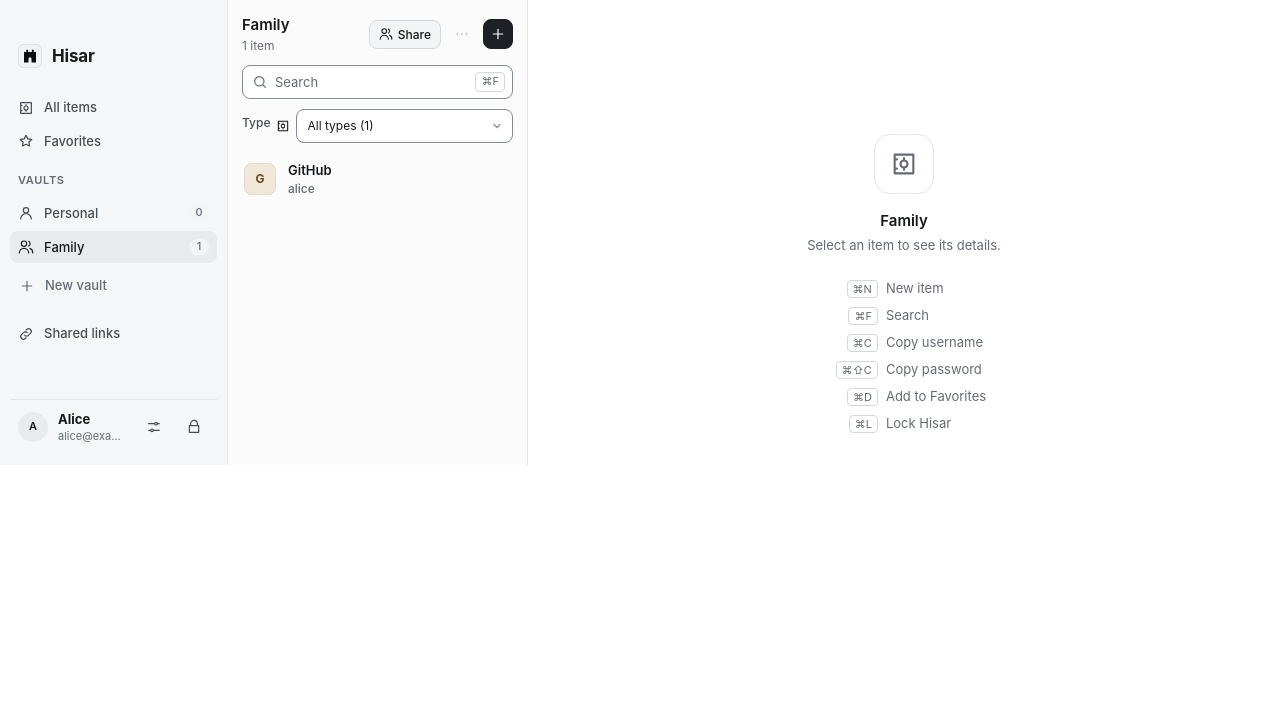
Scenario: Vault sharing panel › does not report zero members while loading sharing
The image size is (1280, 720).
Click the button with test id "share-vault". click: (405, 34)
box: [369,20,441,49]
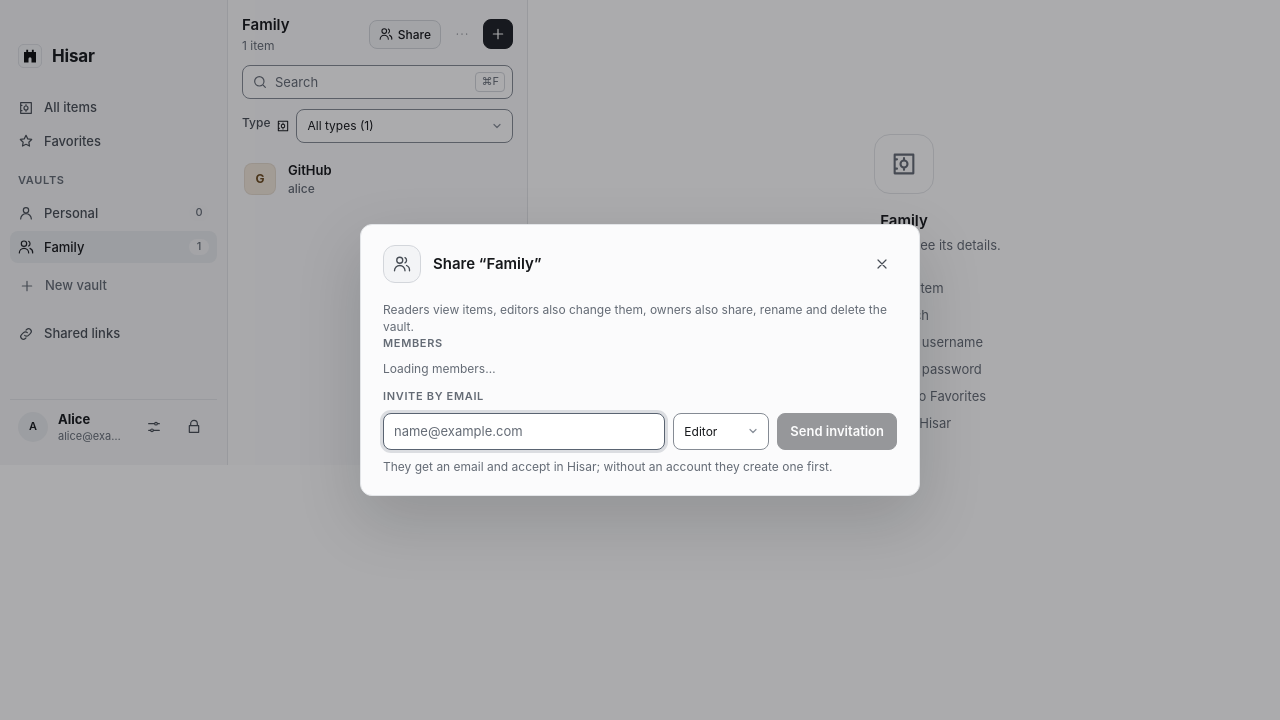
Expected: the dialog with test id "vault-sharing-panel" shows "Loading members…", [383,361,496,376]
